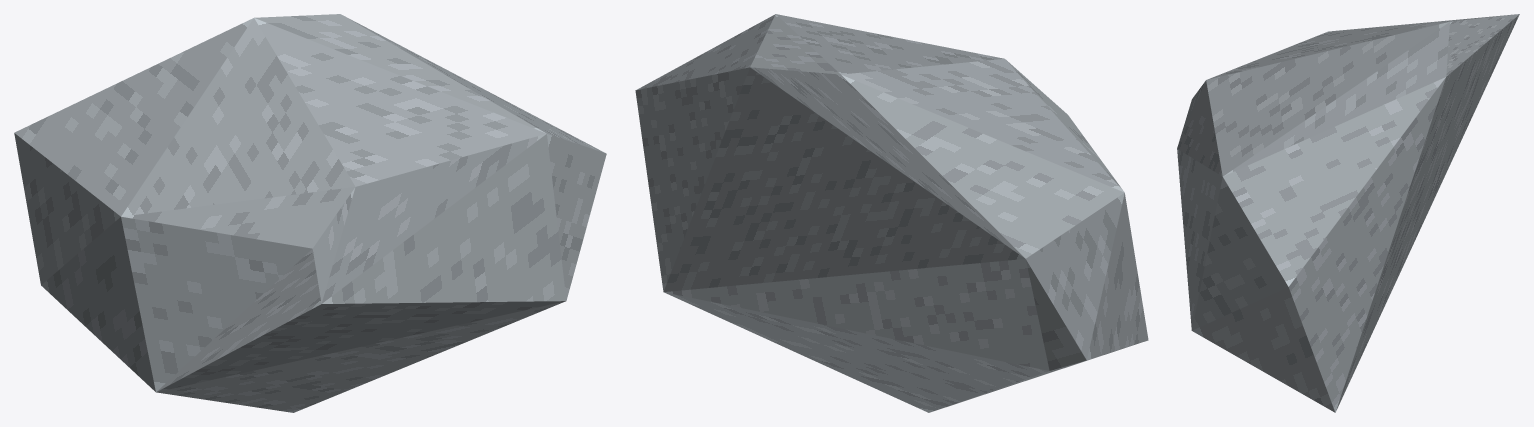
Rendered from budget_steel_lump.glb.
The picture shows the model from 3 angles, left to right: view 1: azimuth 30°, elevation 25°; view 2: azimuth 150°, elevation 25°; view 3: azimuth 270°, elevation 25°; orthographic projection. The views are drawn at different scales.
Parts seen in each view (by area): view 1: block_irregular metal; view 2: block_irregular metal; view 3: block_irregular metal.
Part boxes in pixels (x1=…): block_irregular metal: x1=14, y1=14, x2=606, y2=412; block_irregular metal: x1=635, y1=14, x2=1148, y2=412; block_irregular metal: x1=1177, y1=14, x2=1519, y2=412.
Size of the model in its own units: 0.0905 by 0.0614 by 0.0566.
1 material, 1 textured.
